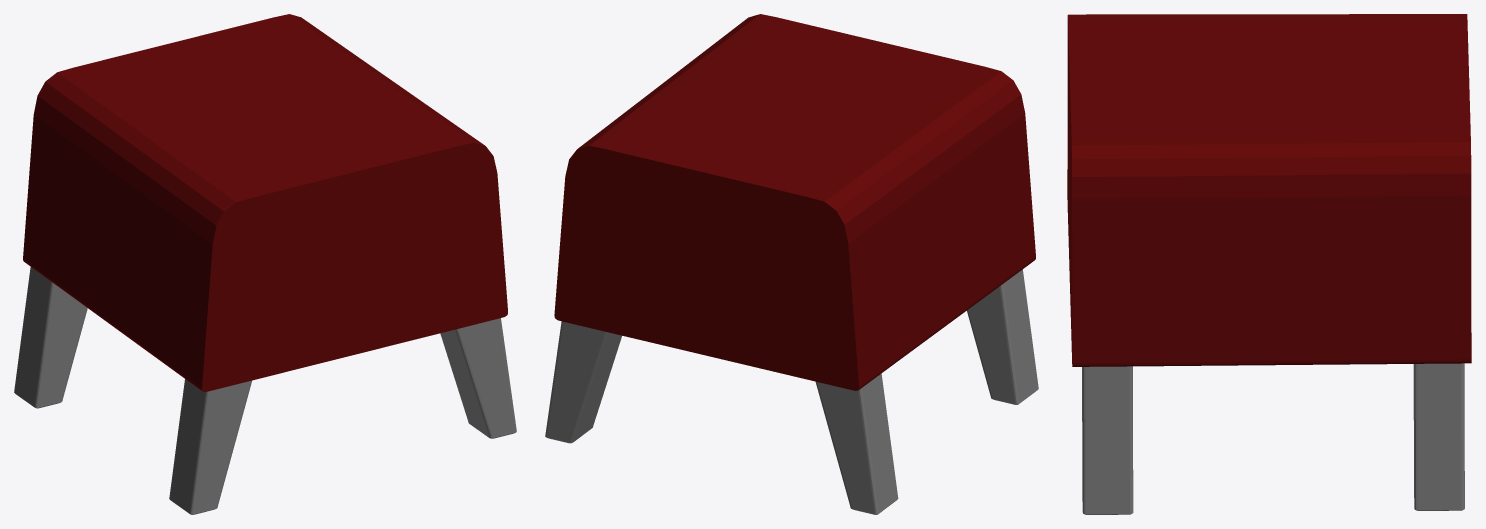
The model's file is Low_Poly_Ottoman.FBXA3E9BF4F-0CF7-4745-AE36-7FA389DFB1B2.fbx.
The picture shows the model from 3 angles, left to right: view 1: azimuth 30°, elevation 25°; view 2: azimuth 150°, elevation 25°; view 3: azimuth 270°, elevation 25°; orthographic projection. The views are drawn at different scales.
Visible parts, largest first — view 1: Box062, Box064, Box065, Box063; view 2: Box062, Box065, Box064, Box066; view 3: Box062, Box063, Box066.
Boxes of the visible parts, bbox=[...] form: Box062: bbox=[23, 14, 507, 391]; Box064: bbox=[169, 379, 251, 514]; Box065: bbox=[14, 267, 87, 408]; Box063: bbox=[440, 318, 516, 438]; Box062: bbox=[554, 14, 1035, 390]; Box065: bbox=[815, 373, 898, 514]; Box064: bbox=[967, 269, 1038, 404]; Box066: bbox=[545, 321, 621, 443]; Box062: bbox=[1067, 14, 1471, 366]; Box063: bbox=[1082, 366, 1133, 514]; Box066: bbox=[1413, 363, 1464, 510].
Bounding box in the file's own units: 17.86 × 15.5 × 16.51.
